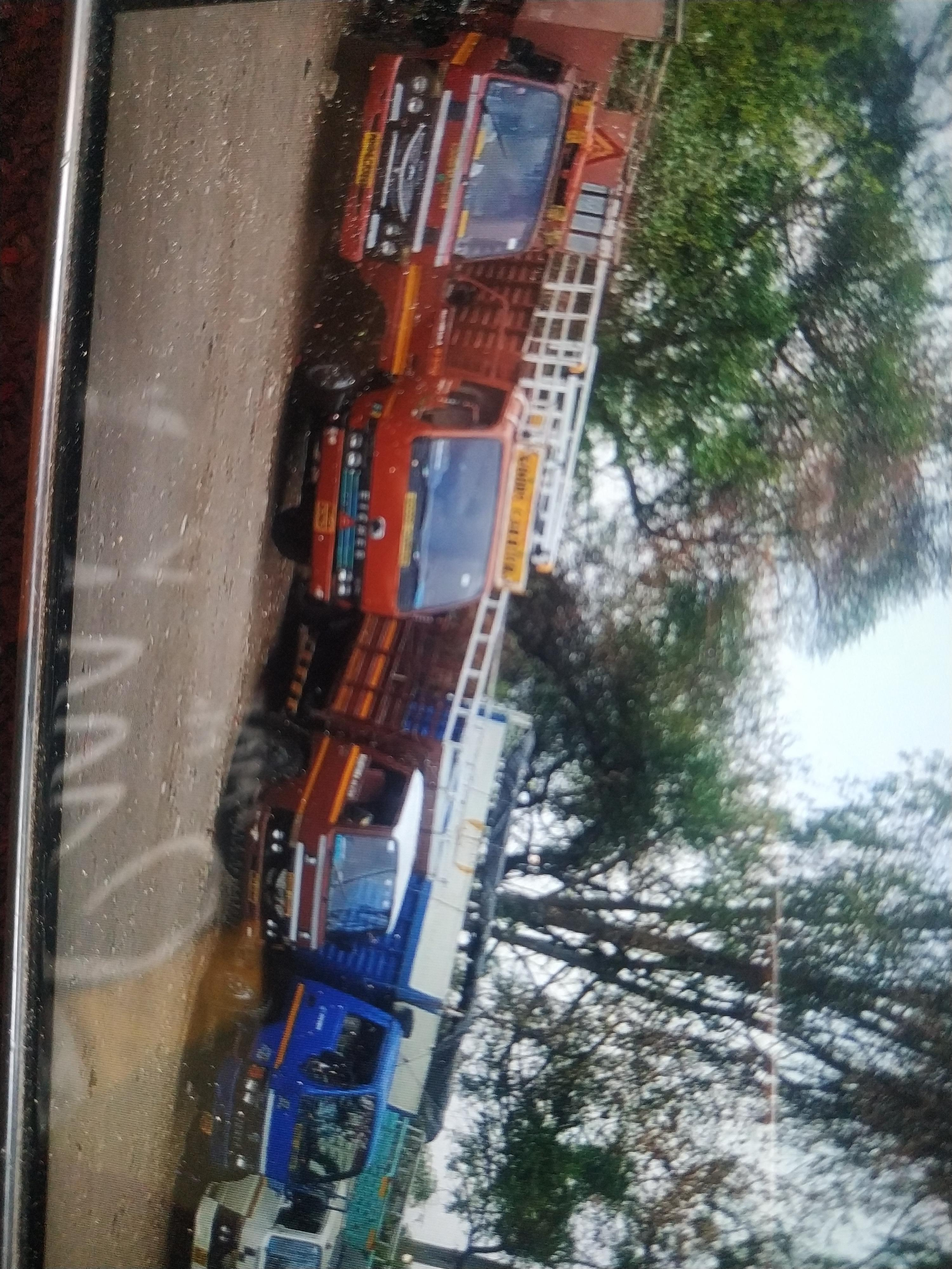non-ambulance: (204, 697, 493, 1269), (274, 18, 625, 340), (261, 370, 578, 640)
